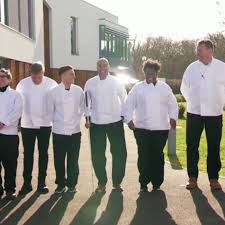Bad: (127, 40, 225, 191), (50, 57, 127, 193), (22, 63, 83, 194), (1, 62, 50, 199)
